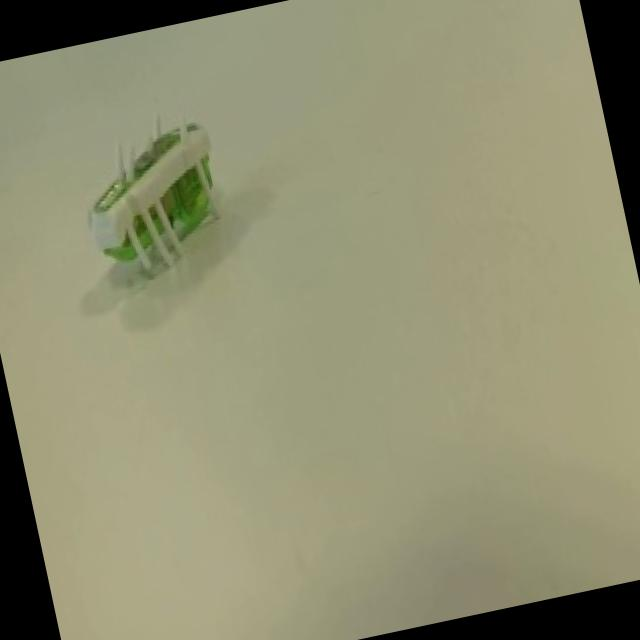4_NanoBug_Blanco: (11, 25, 298, 341)
